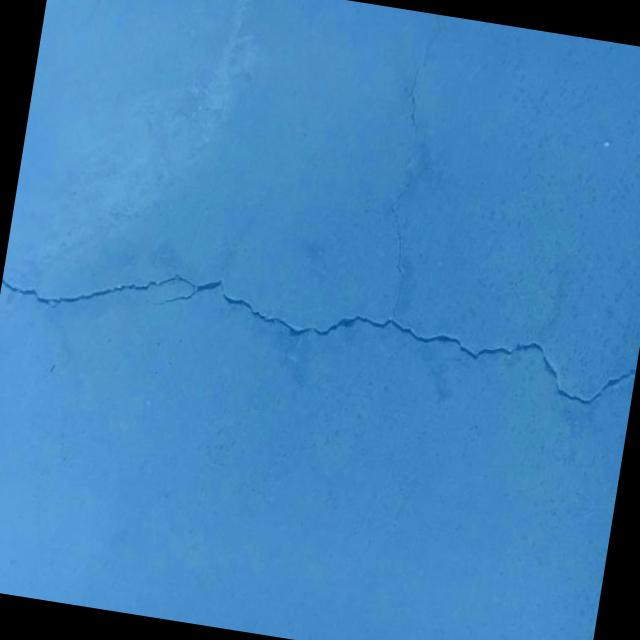crack: (0, 96, 640, 413), (403, 65, 432, 144)
